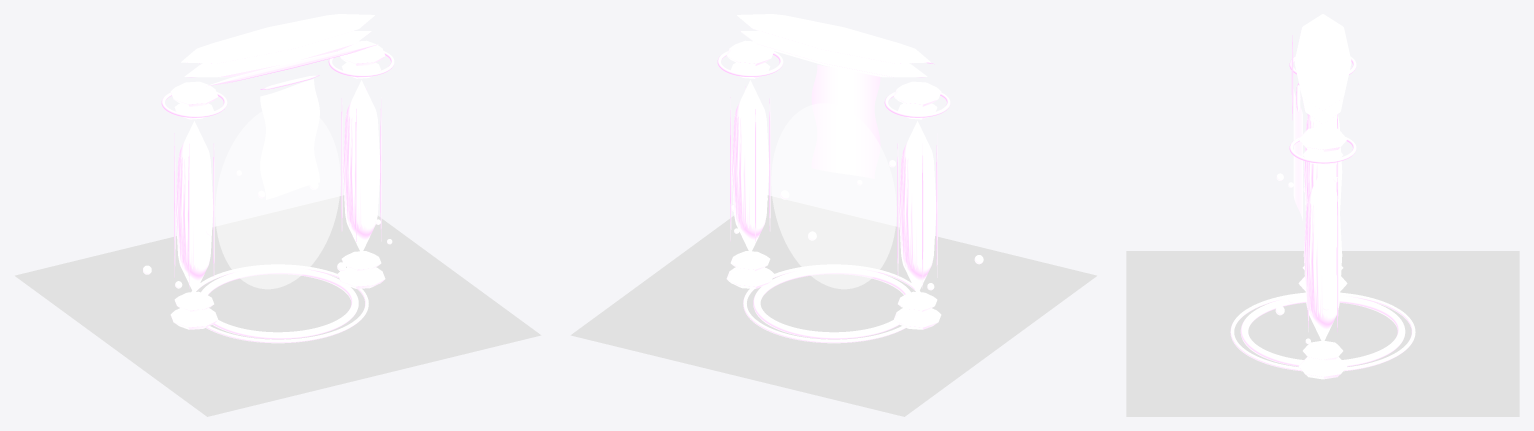
Rendered from entrance_wilds_r2_v3.glb.
3 renders of one model, left to right at view 1: azimuth 30°, elevation 25°; view 2: azimuth 150°, elevation 25°; view 3: azimuth 270°, elevation 25°, orthographic.
Visible parts, largest first — view 1: wilds_floor, wilds_portal, wilds_banner, wilds_p0_s, wilds_p1_s, wilds_lintel_top, wilds_lintel, wilds_ring, wilds_ring2, wilds_lintel_trim, wilds_p0_c2, wilds_p0_b1 (+4 smaller); view 2: wilds_floor, wilds_portal, wilds_banner, wilds_p0_s, wilds_p1_s, wilds_lintel_top, wilds_lintel, wilds_ring, wilds_ring2, wilds_p0_c2, wilds_p1_c2, wilds_p0_b1 (+3 smaller); view 3: wilds_floor, wilds_p1_s, wilds_lintel_top, wilds_ring, wilds_ring2, wilds_p0_s, wilds_banner, wilds_p1_c2, wilds_p1_b1, wilds_p1_b2, wilds_lintel, wilds_p1_tr (+1 smaller).
Boxes of the visible parts, x1,y1,x2,y2 form: wilds_floor: (15, 195, 541, 416); wilds_portal: (215, 111, 340, 289); wilds_banner: (260, 79, 319, 199); wilds_p0_s: (175, 121, 213, 294); wilds_p1_s: (342, 80, 380, 253); wilds_lintel_top: (181, 14, 374, 63); wilds_lintel: (184, 31, 371, 77); wilds_ring: (201, 267, 358, 339); wilds_ring2: (191, 264, 368, 343); wilds_lintel_trim: (206, 44, 378, 86); wilds_p0_c2: (170, 81, 218, 106); wilds_p0_b1: (170, 308, 218, 329); wilds_floor: (570, 195, 1096, 416); wilds_portal: (771, 103, 896, 289); wilds_banner: (811, 64, 880, 178); wilds_p0_s: (898, 121, 936, 294); wilds_p1_s: (731, 80, 769, 253); wilds_lintel_top: (737, 14, 930, 63); wilds_lintel: (740, 31, 927, 77); wilds_ring: (753, 267, 910, 339); wilds_ring2: (743, 264, 920, 343); wilds_p0_c2: (893, 81, 941, 106); wilds_p1_c2: (726, 40, 773, 65); wilds_p0_b1: (893, 308, 941, 329); wilds_floor: (1126, 251, 1519, 416); wilds_p1_s: (1303, 167, 1342, 343); wilds_lintel_top: (1294, 14, 1351, 110); wilds_ring: (1240, 295, 1405, 366); wilds_ring2: (1230, 292, 1415, 371); wilds_p0_s: (1303, 115, 1342, 210); wilds_banner: (1293, 89, 1302, 220); wilds_p1_c2: (1298, 126, 1347, 152); wilds_p1_b1: (1298, 357, 1347, 379); wilds_p1_b2: (1303, 341, 1342, 361); wilds_lintel: (1302, 98, 1343, 124); wilds_p1_tr: (1289, 137, 1356, 163).
Bounding box in the file's own units: 8 × 6.25 × 8.
